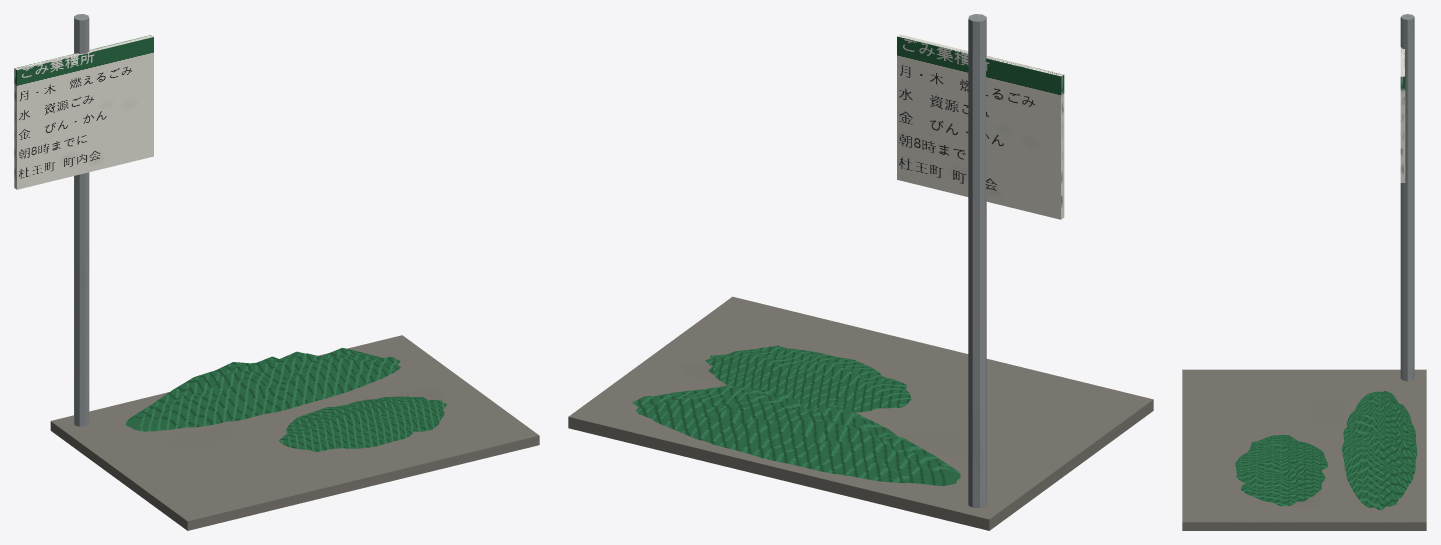
File: garbagestation.glb
3 views of the same model, side by side, from view 1: azimuth 30°, elevation 25°; view 2: azimuth 150°, elevation 25°; view 3: azimuth 270°, elevation 25° (orthographic). The views are drawn at different scales.
Parts seen in each view (by area): view 1: garbagestation; view 2: garbagestation; view 3: garbagestation.
Boxes of the visible parts, x1,y1,x2,y2 form: garbagestation: (14, 14, 539, 530); garbagestation: (568, 14, 1153, 530); garbagestation: (1182, 14, 1426, 530).
Size of the model in its own units: 1.75 by 1.74 by 1.04.
1 material, 1 textured.
